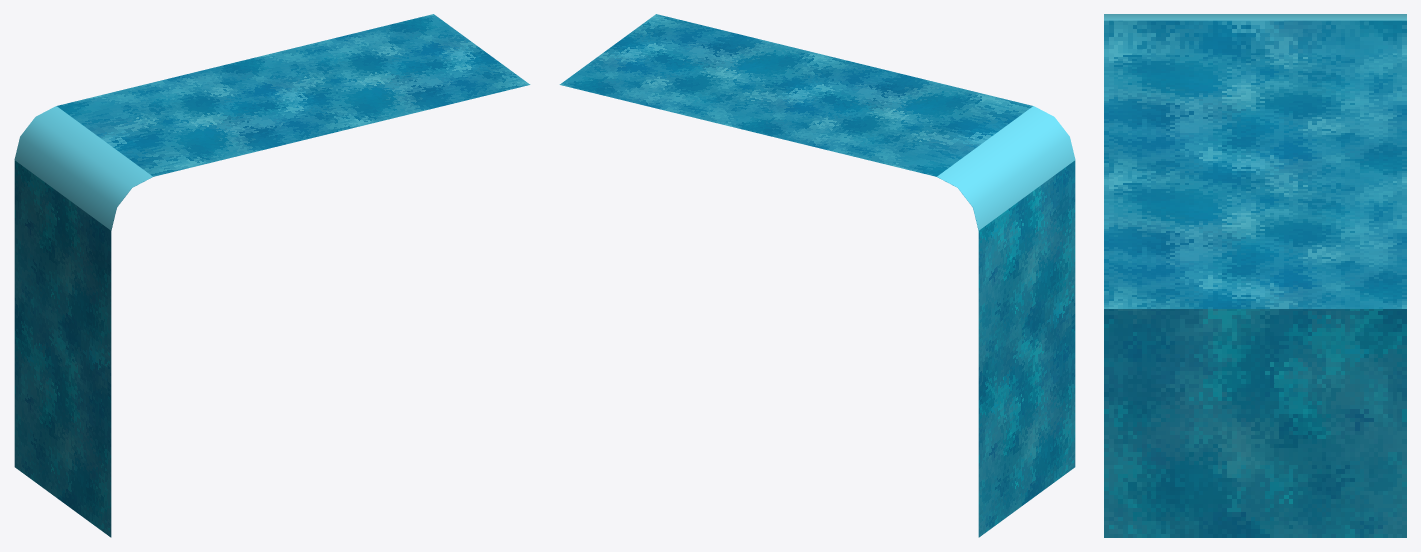
The model's file is Water_Waterfall_Top_Center_1x3.fbx.
The picture shows the model from 3 angles, left to right: view 1: azimuth 30°, elevation 25°; view 2: azimuth 150°, elevation 25°; view 3: azimuth 270°, elevation 25°; orthographic projection. The views are drawn at different scales.
Visible parts, largest first — view 1: Water_Waterfall_Top_Center_1x3_River, Water_Waterfall_Top_Center_1x3, Water_Waterfall_Top_Center_1x3_Crest; view 2: Water_Waterfall_Top_Center_1x3_River, Water_Waterfall_Top_Center_1x3, Water_Waterfall_Top_Center_1x3_Crest; view 3: Water_Waterfall_Top_Center_1x3_River, Water_Waterfall_Top_Center_1x3, Water_Waterfall_Top_Center_1x3_Crest.
Boxes of the visible parts, x1,y1,x2,y2 form: Water_Waterfall_Top_Center_1x3_River: (57,14,530,186); Water_Waterfall_Top_Center_1x3: (14,160,131,537); Water_Waterfall_Top_Center_1x3_Crest: (14,106,152,230); Water_Waterfall_Top_Center_1x3_River: (559,14,1032,186); Water_Waterfall_Top_Center_1x3: (958,160,1075,537); Water_Waterfall_Top_Center_1x3_Crest: (937,106,1075,230); Water_Waterfall_Top_Center_1x3_River: (1104,20,1406,308); Water_Waterfall_Top_Center_1x3: (1104,309,1406,537); Water_Waterfall_Top_Center_1x3_Crest: (1104,14,1406,20).
Size of the model in its own units: 250 by 200 by 100.
